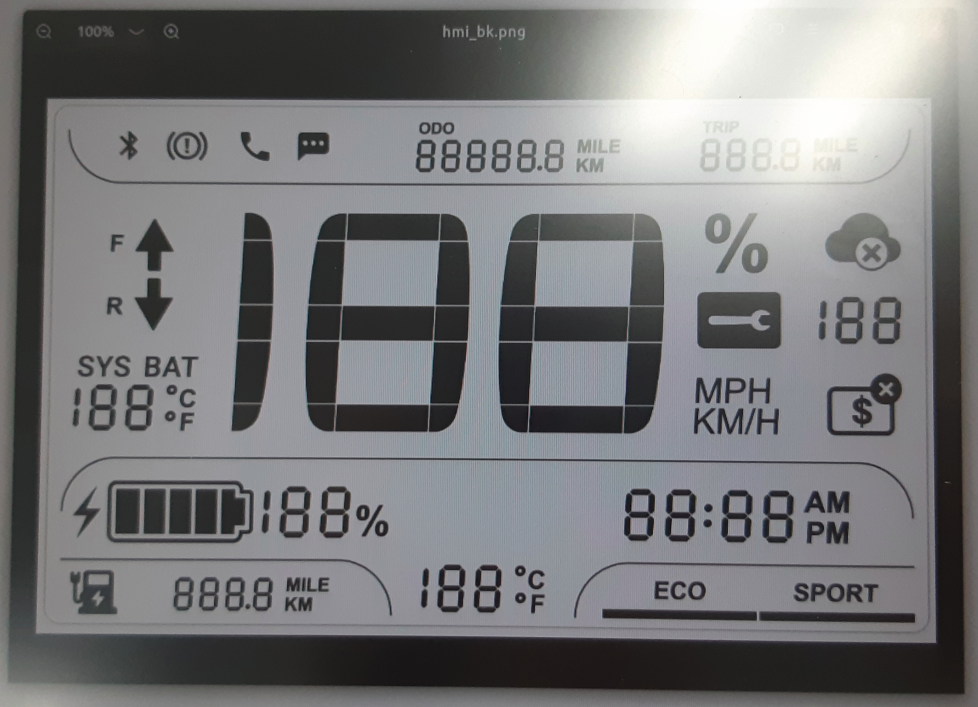bluetooth_on: (115, 125, 146, 166)
braking_on: (163, 127, 210, 164)
calling_on: (235, 128, 276, 164)
connection_lost: (817, 208, 907, 275)
error_code: (692, 286, 786, 353)
low_battery: (66, 564, 123, 618)
sms_on: (292, 128, 332, 163)
vin_id: (821, 368, 906, 440)
